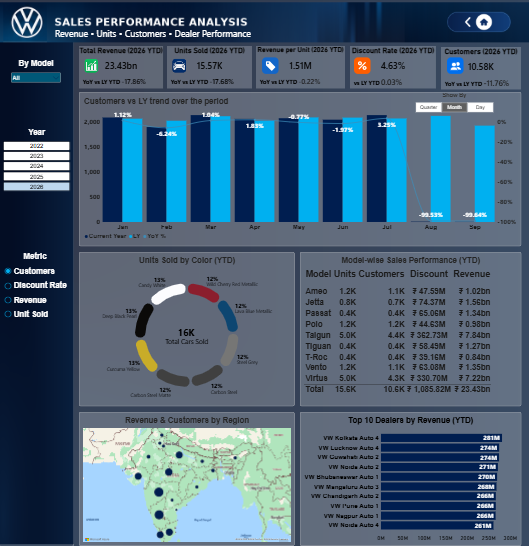

What the dashboard file says about the page in this screenshot:
{"tool":"powerbi","page":{"name":"Analytical View","canvas":[2250,2330],"ordinal":1},"visuals":[{"type":"image","box":[0,163.3,316.7,2156.7],"z":0},{"type":"image","box":[0,0,2250,206.7],"z":1000},{"type":"cardVisual","fields":{"Data":["Measuress.Revenue YTD"]},"box":[338.9,203.3,355.9,180],"z":2000},{"type":"cardVisual","fields":{"Data":["Measuress.Units Sold YTD"]},"box":[711.7,203.3,360.1,180],"z":3000},{"type":"cardVisual","fields":{"Data":["Measuress.Revenue Per Unit YTD"]},"box":[1088.7,203.3,377,180],"z":4000},{"type":"cardVisual","fields":{"Data":["Measuress.Discount Rate YTD"]},"box":[1487,203.3,364.3,180],"z":5000},{"type":"cardVisual","fields":{"Data":["Measuress.Customers YTD"]},"box":[1872.5,207.6,338.9,180],"z":6000},{"type":"image","box":[1897.5,242.5,70,90],"z":7000},{"type":"image","box":[1505,240,70,90],"z":8000},{"type":"image","box":[1115,242.5,70,90],"z":9000},{"type":"image","box":[730,240,70,90],"z":10000},{"type":"image","box":[357.5,240,70,90],"z":11000},{"type":"slicer","title":"Show By","fields":{"Values":["Show By.Show By"]},"box":[1746.7,396.7,366.7,86.7],"z":12000},{"type":"ChicletSlicer1448559807354","title":"Year","fields":{"Category":["Calendar_Tbl.Year"]},"box":[0,536.7,303.3,336.7],"z":13000},{"type":"slicer","title":"Metric","fields":{"Values":["Metric Selector.Metric"]},"box":[13.3,1076.7,280,343.3],"z":14000},{"type":"lineClusteredColumnComboChart","fields":{"Category":["Calendar_Tbl.Month Name"],"Y":["Measuress.Current Metric Period","Measuress.Previous Metric Period"],"Y2":["Measuress.Metric YoY %"]},"box":[340,396.7,1873.3,653.3],"z":15000},{"type":"slicer","title":"By Model","fields":{"Values":["cars.model"]},"box":[47.5,257.5,220,112.5],"z":16000},{"type":"clusteredBarChart","title":"Top 10 Dealers by Revenue (YTD)","fields":{"Category":["Dealers.dealer_name"],"Y":["Measuress.Revenue YTD"]},"box":[1276.7,1753.3,936.7,566.7],"z":17000},{"type":"tableEx","title":"Model-wise Sales Performance (YTD)","fields":{"Values":["cars.model","Measuress.Units Sold YTD","Measuress.Customers YTD","Measuress.Discount YTD","Measuress.Revenue YTD"]},"box":[1276.7,1076.7,936.7,653.3],"z":18000},{"type":"donutE4A86F3675B84D178C45F7E034E25D6A","title":"Units Sold by Color (YTD)","fields":{"key":["Car_Colours.Colour"],"metric":["Measuress.Total_Cars_Sold"]},"box":[340,1076.7,913.3,653.3],"z":19000},{"type":"azureMap","title":"Revenue & Customers by Region","fields":{"Category":["Customers.state"],"Size":["Measuress.Revenue YTD"]},"box":[340,1753.3,913.3,566.7],"z":20000},{"type":"textbox","box":[236.7,126.7,850,80],"z":21000},{"type":"image","box":[1896.7,46.7,270,110],"z":22000}]}

Visuals, with their boxes in screenshot pixels (x1, y1, x2, y2), scaled from the page's 2250x2330 canvas onto the 529x546 screenshot:
image: {"left": 0, "top": 38, "right": 74, "bottom": 544}
image: {"left": 0, "top": 0, "right": 528, "bottom": 48}
cardVisual - Measuress.Revenue YTD: {"left": 80, "top": 48, "right": 163, "bottom": 90}
cardVisual - Measuress.Units Sold YTD: {"left": 167, "top": 48, "right": 252, "bottom": 90}
cardVisual - Measuress.Revenue Per Unit YTD: {"left": 256, "top": 48, "right": 345, "bottom": 90}
cardVisual - Measuress.Discount Rate YTD: {"left": 350, "top": 48, "right": 435, "bottom": 90}
cardVisual - Measuress.Customers YTD: {"left": 440, "top": 49, "right": 520, "bottom": 91}
image: {"left": 446, "top": 57, "right": 463, "bottom": 78}
image: {"left": 354, "top": 56, "right": 370, "bottom": 77}
image: {"left": 262, "top": 57, "right": 279, "bottom": 78}
image: {"left": 172, "top": 56, "right": 188, "bottom": 77}
image: {"left": 84, "top": 56, "right": 101, "bottom": 77}
"Show By" slicer: {"left": 411, "top": 93, "right": 497, "bottom": 113}
"Year" ChicletSlicer1448559807354: {"left": 0, "top": 126, "right": 71, "bottom": 205}
"Metric" slicer: {"left": 3, "top": 252, "right": 69, "bottom": 333}
lineClusteredColumnComboChart - Calendar_Tbl.Month Name x Measuress.Current Metric Period: {"left": 80, "top": 93, "right": 520, "bottom": 246}
"By Model" slicer: {"left": 11, "top": 60, "right": 63, "bottom": 87}
"Top 10 Dealers by Revenue (YTD)" clusteredBarChart: {"left": 300, "top": 411, "right": 520, "bottom": 544}
"Model-wise Sales Performance (YTD)" tableEx: {"left": 300, "top": 252, "right": 520, "bottom": 405}
"Units Sold by Color (YTD)" donutE4A86F3675B84D178C45F7E034E25D6A: {"left": 80, "top": 252, "right": 295, "bottom": 405}
"Revenue & Customers by Region" azureMap: {"left": 80, "top": 411, "right": 295, "bottom": 544}
textbox: {"left": 56, "top": 30, "right": 255, "bottom": 48}
image: {"left": 446, "top": 11, "right": 509, "bottom": 37}
